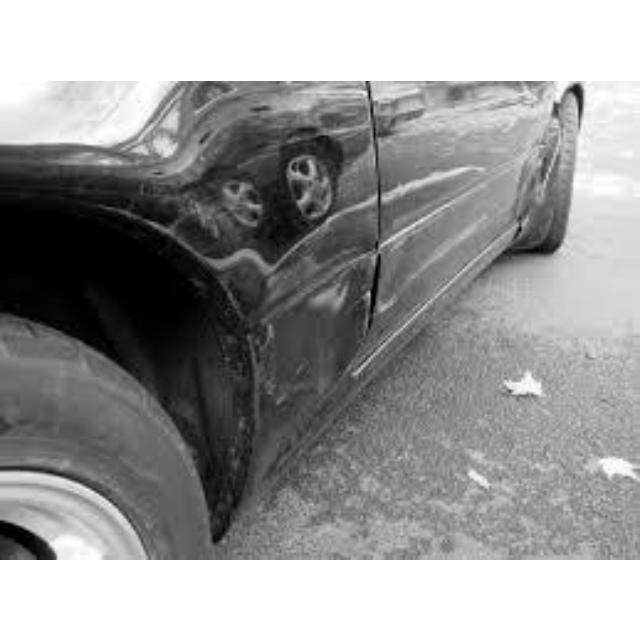fender-dent: (92, 80, 378, 430)
